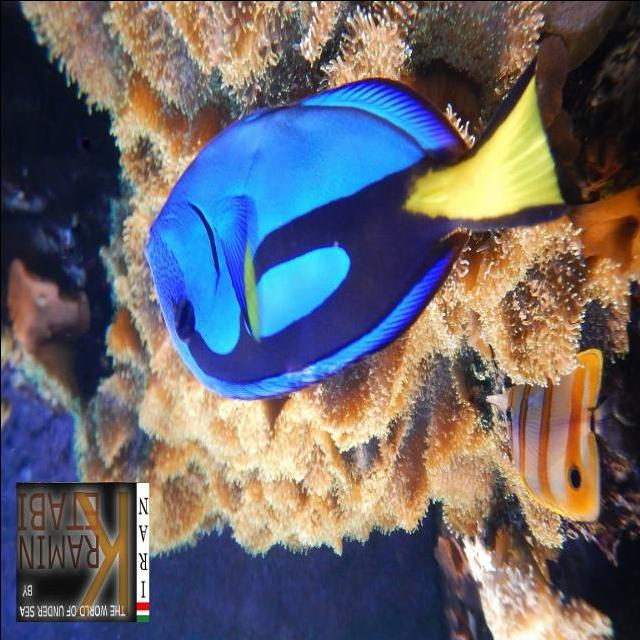BlueTang: (130, 63, 562, 395)
ButterflyFish: (486, 352, 597, 519)
